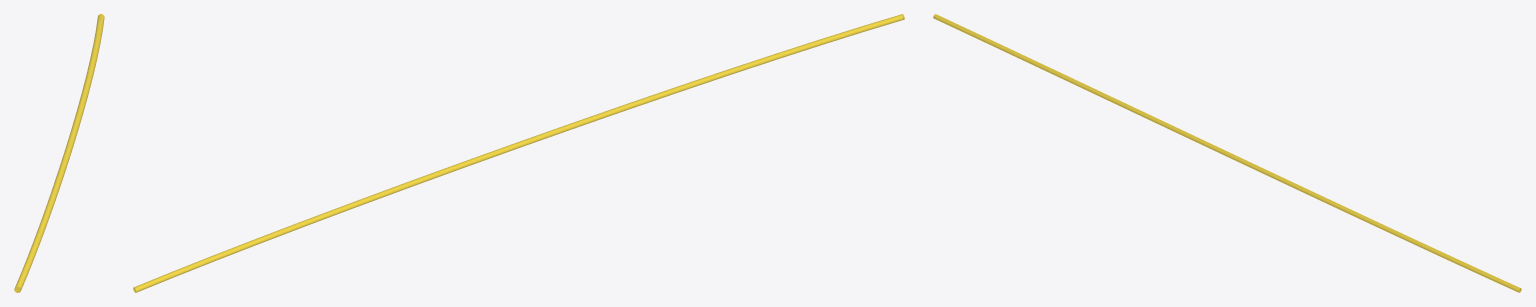
The model's file is Event_100608114_track_46.fbx.
3 renders of one model, left to right at view 1: azimuth 90°, elevation 25°; view 2: azimuth 210°, elevation 25°; view 3: azimuth 330°, elevation 25°, orthographic. The views are drawn at different scales.
Visible parts, largest first — view 1: Model; view 2: Model; view 3: Model.
Part boxes in pixels (x1,y1,x2,y2): Model: (14,14,104,292); Model: (133,14,904,292); Model: (933,14,1521,292).
Size of the model in its own units: 5.66 by 0.9319 by 0.5229.
